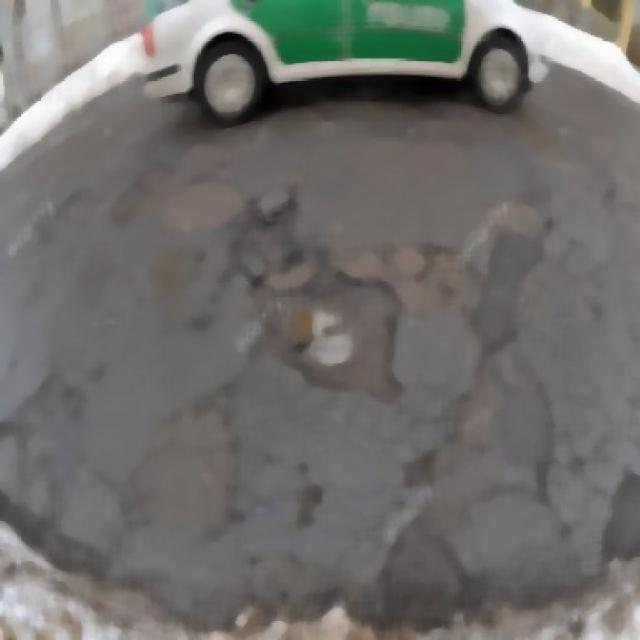Pothole: (258, 269, 420, 428), (233, 185, 313, 281)
